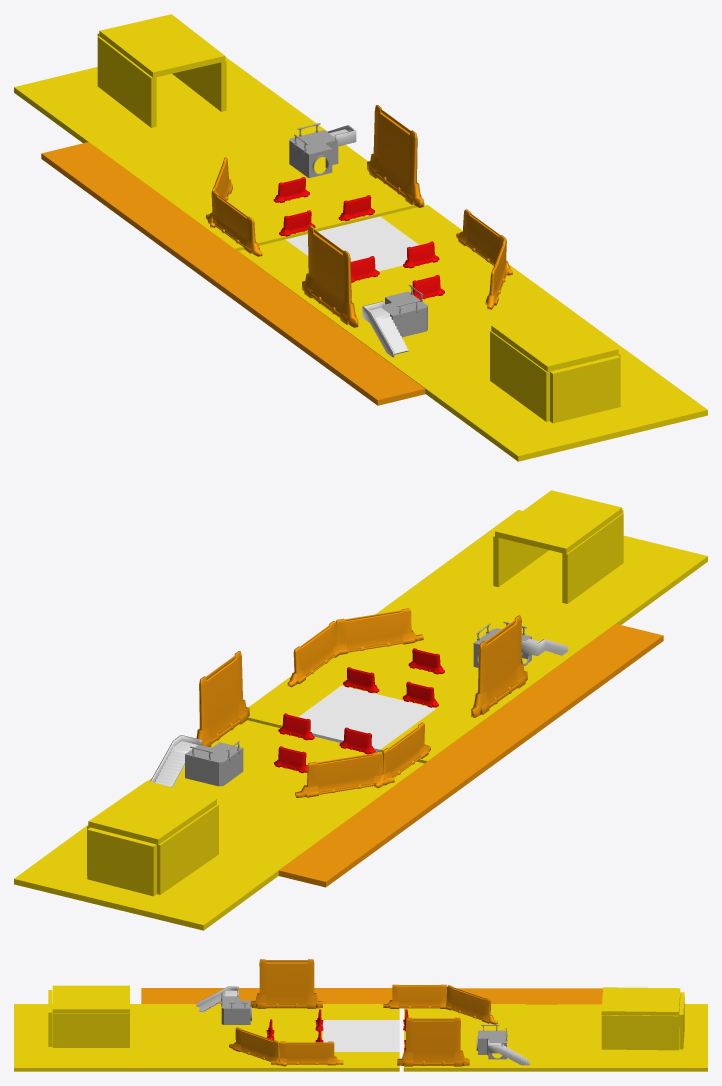
The model's file is TestStage.fbx.
3 renders of one model, top to bottom at view 1: azimuth 30°, elevation 25°; view 2: azimuth 150°, elevation 25°; view 3: azimuth 270°, elevation 25°, orthographic. The views are drawn at different scales.
Visible parts, largest first — view 1: Docking_Floors_mdl__16_, Docking_Floors_mdl__14_, Docking_Floors_mdl__15_, Docking_Floors_mdl__5_, Docking_Floors_mdl__3_, Docking_Floors_mdl__7_, Docking_Floors_mdl__11_, Docking_Floors_mdl__9_, Barricade_mdl_12, Barricade_mdl_11, Docking_Floors_mdl, Docking_Floors_mdl__12_ (+10 smaller); view 2: Docking_Floors_mdl__16_, Docking_Floors_mdl__5_, Docking_Floors_mdl__14_, Docking_Floors_mdl__3_, Docking_Floors_mdl__15_, Docking_Floors_mdl, Docking_Floors_mdl__11_, Docking_Floors_mdl__7_, Docking_Floors_mdl__13_, Barricade_mdl_11, Barricade_mdl_12, Docking_Floors_mdl__12_ (+10 smaller); view 3: Docking_Floors_mdl__3_, Docking_Floors_mdl__5_, Docking_Floors_mdl__14_, Docking_Floors_mdl__15_, Docking_Floors_mdl__16_, Barricade_mdl_11, Barricade_mdl_12, Docking_Floors_mdl__10_, Docking_Floors_mdl__8_, Docking_Floors_mdl, Docking_Floors_mdl__7_, Docking_Floors_mdl__11_ (+12 smaller).
Boxes of the visible parts, x1,y1,x2,y2 form: Docking_Floors_mdl__16_: (41, 142, 425, 405); Docking_Floors_mdl__14_: (14, 57, 315, 169); Docking_Floors_mdl__15_: (123, 121, 424, 250); Docking_Floors_mdl__5_: (406, 328, 707, 461); Docking_Floors_mdl__3_: (294, 249, 595, 374); Docking_Floors_mdl__7_: (491, 308, 618, 371); Docking_Floors_mdl__11_: (99, 14, 225, 77); Docking_Floors_mdl__9_: (550, 355, 620, 423); Barricade_mdl_12: (367, 105, 423, 207); Barricade_mdl_11: (302, 225, 358, 327); Docking_Floors_mdl: (285, 216, 419, 271); Docking_Floors_mdl__12_: (97, 36, 156, 127); Docking_Floors_mdl__16_: (278, 624, 663, 887); Docking_Floors_mdl__5_: (406, 510, 707, 638); Docking_Floors_mdl__14_: (14, 819, 311, 930); Docking_Floors_mdl__3_: (307, 592, 595, 719); Docking_Floors_mdl__15_: (148, 720, 424, 845); Docking_Floors_mdl: (298, 685, 435, 751); Docking_Floors_mdl__11_: (88, 781, 216, 844); Docking_Floors_mdl__7_: (495, 490, 622, 553); Docking_Floors_mdl__13_: (87, 827, 156, 896); Barricade_mdl_11: (471, 615, 527, 717); Barricade_mdl_12: (196, 651, 249, 747); Docking_Floors_mdl__12_: (157, 804, 218, 894); Docking_Floors_mdl__3_: (168, 1004, 322, 1071); Docking_Floors_mdl__5_: (14, 1004, 168, 1071); Docking_Floors_mdl__14_: (553, 1004, 707, 1071); Docking_Floors_mdl__15_: (403, 1004, 558, 1071); Docking_Floors_mdl__16_: (141, 988, 602, 1004); Barricade_mdl_11: (250, 959, 322, 1008); Barricade_mdl_12: (397, 1017, 469, 1066); Docking_Floors_mdl__10_: (601, 1015, 678, 1050); Docking_Floors_mdl__8_: (52, 1013, 129, 1047); Docking_Floors_mdl: (322, 1020, 399, 1051); Docking_Floors_mdl__7_: (52, 985, 129, 1013); Docking_Floors_mdl__11_: (601, 987, 680, 1015).
Size of the model in its own units: 1134 by 341 by 4166.
